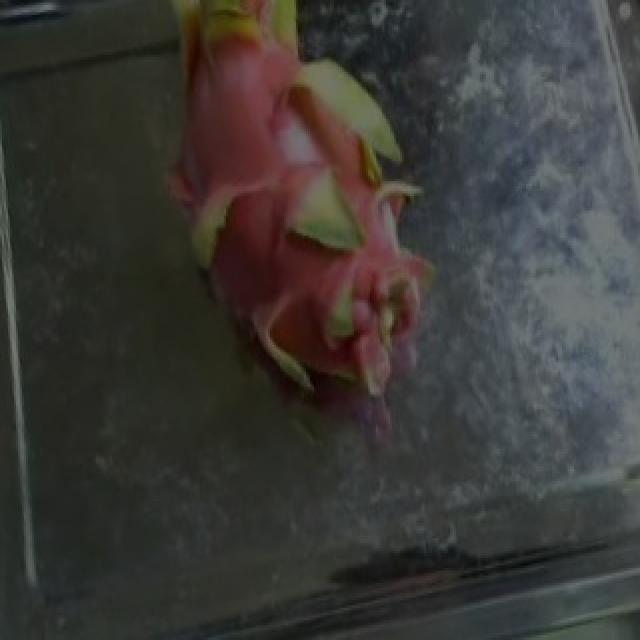fruit: (120, 0, 510, 414)
